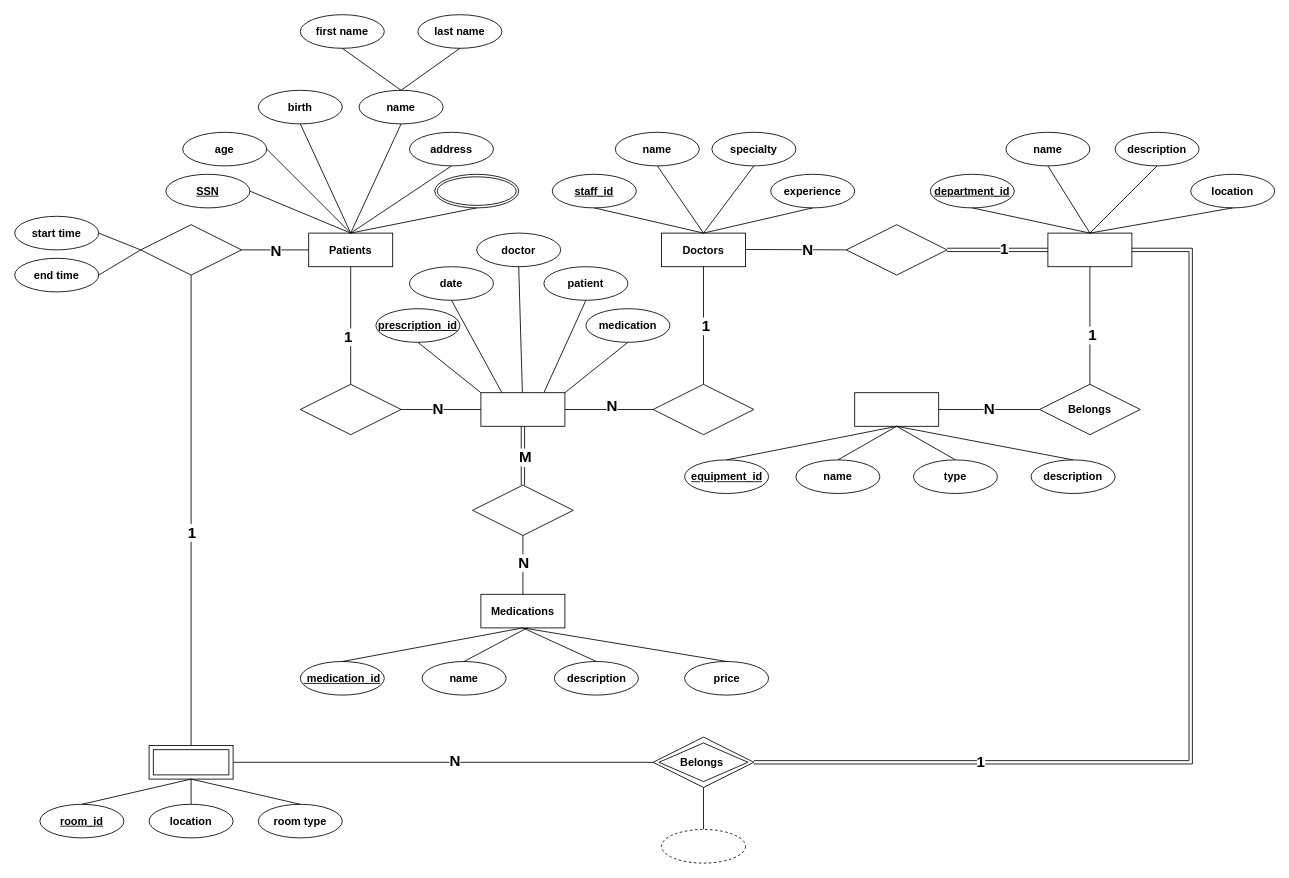
The diagram is 1289 pixels wide and 878 high, and some of its shapes have lost their labels. Here are the shapes that lost their labels. From the top down, the box of each, then its label:
(434, 173, 519, 208): phone number
(140, 224, 242, 275): Occupies
(845, 224, 947, 275): Work
(1047, 232, 1132, 267): Departments
(299, 383, 401, 435): Received
(480, 392, 565, 426): Prescriptions
(652, 383, 754, 435): Prescribe
(854, 392, 939, 426): Equipment
(472, 484, 573, 536): Have
(148, 745, 233, 779): Rooms
(661, 829, 746, 863): available rooms
